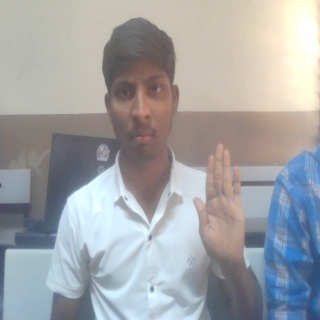Face: (99, 16, 181, 168)
Hello: (192, 141, 246, 268)
